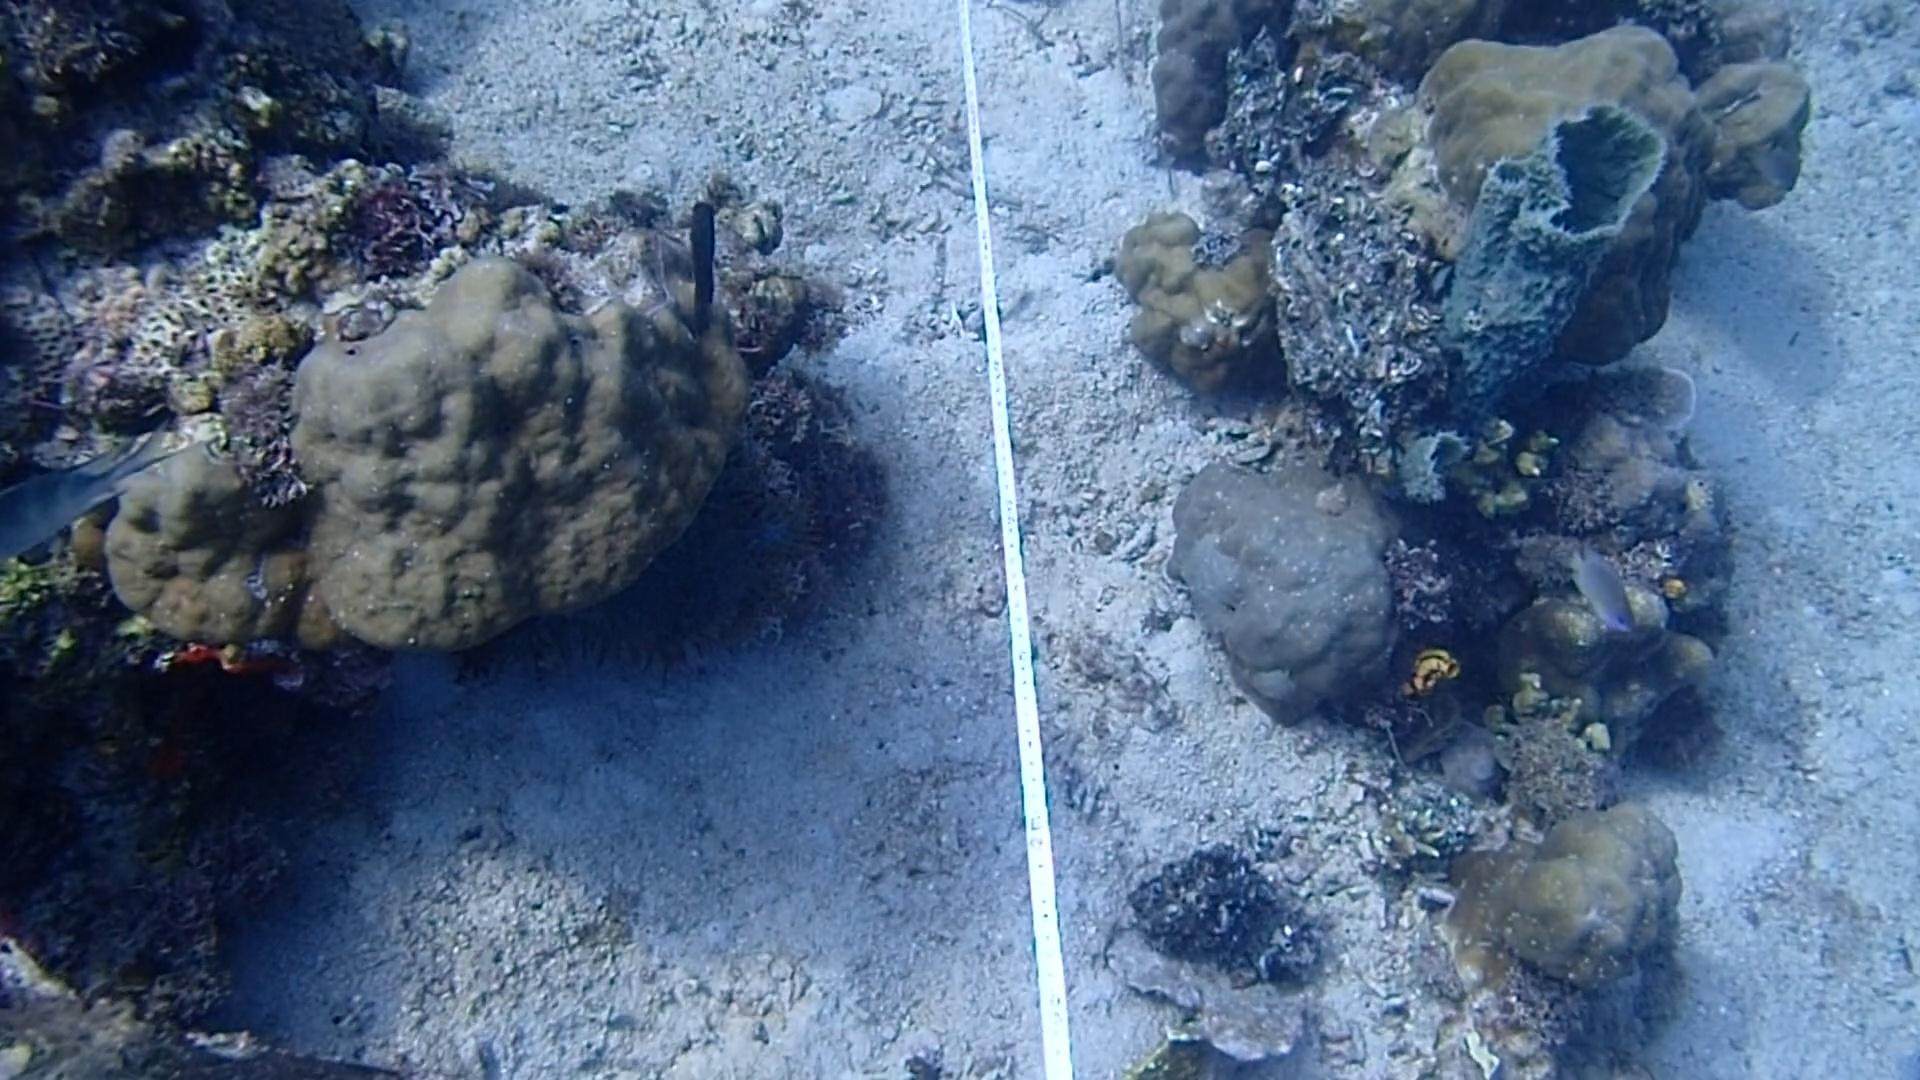Blue Fish: (3, 401, 158, 574)
Blue Nose Fish: (1561, 543, 1652, 647)
Dark Fish: (673, 191, 742, 336)
